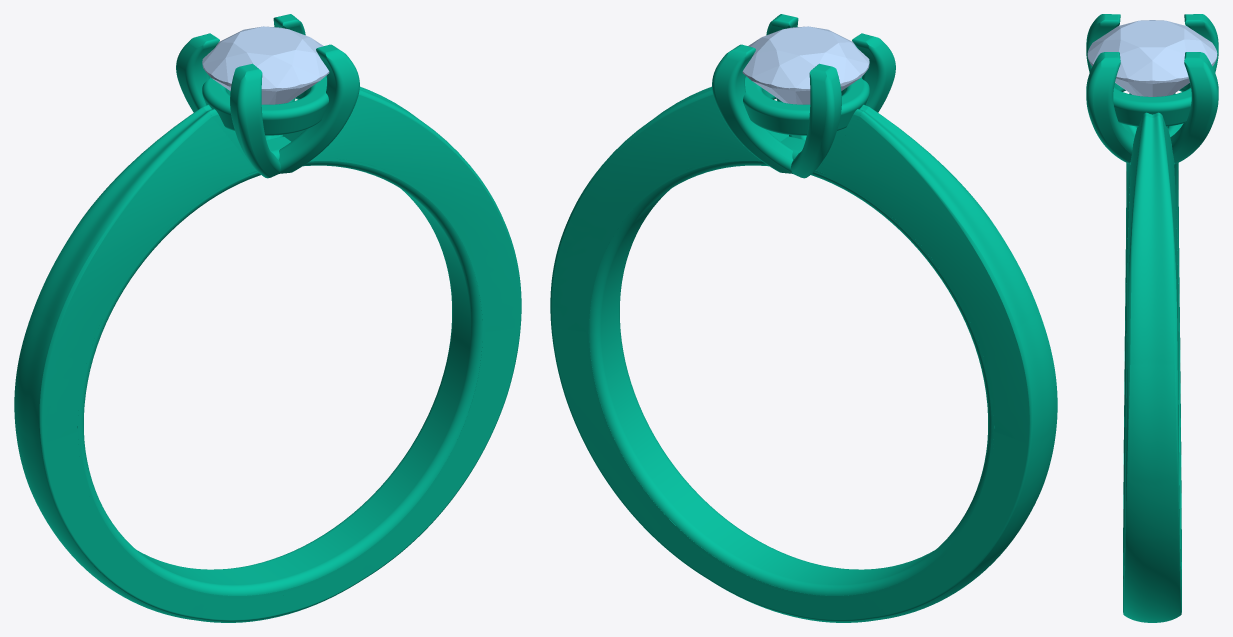
3 renders of one model, left to right at view 1: azimuth 30°, elevation 25°; view 2: azimuth 150°, elevation 25°; view 3: azimuth 270°, elevation 25°, orthographic.
Parts seen in each view (by area): view 1: VR199(front).3dm, Diamond_Round; view 2: VR199(front).3dm, Diamond_Round; view 3: VR199(front).3dm, Diamond_Round.
Part boxes in pixels (box(x1,y1,x2,y2)): VR199(front).3dm: box(14, 14, 521, 622); Diamond_Round: box(202, 26, 329, 104); VR199(front).3dm: box(550, 14, 1057, 622); Diamond_Round: box(742, 26, 869, 104); VR199(front).3dm: box(1086, 14, 1218, 622); Diamond_Round: box(1087, 20, 1217, 96).
Size of the model in its own units: 2.62 by 2.96 by 0.6292.
